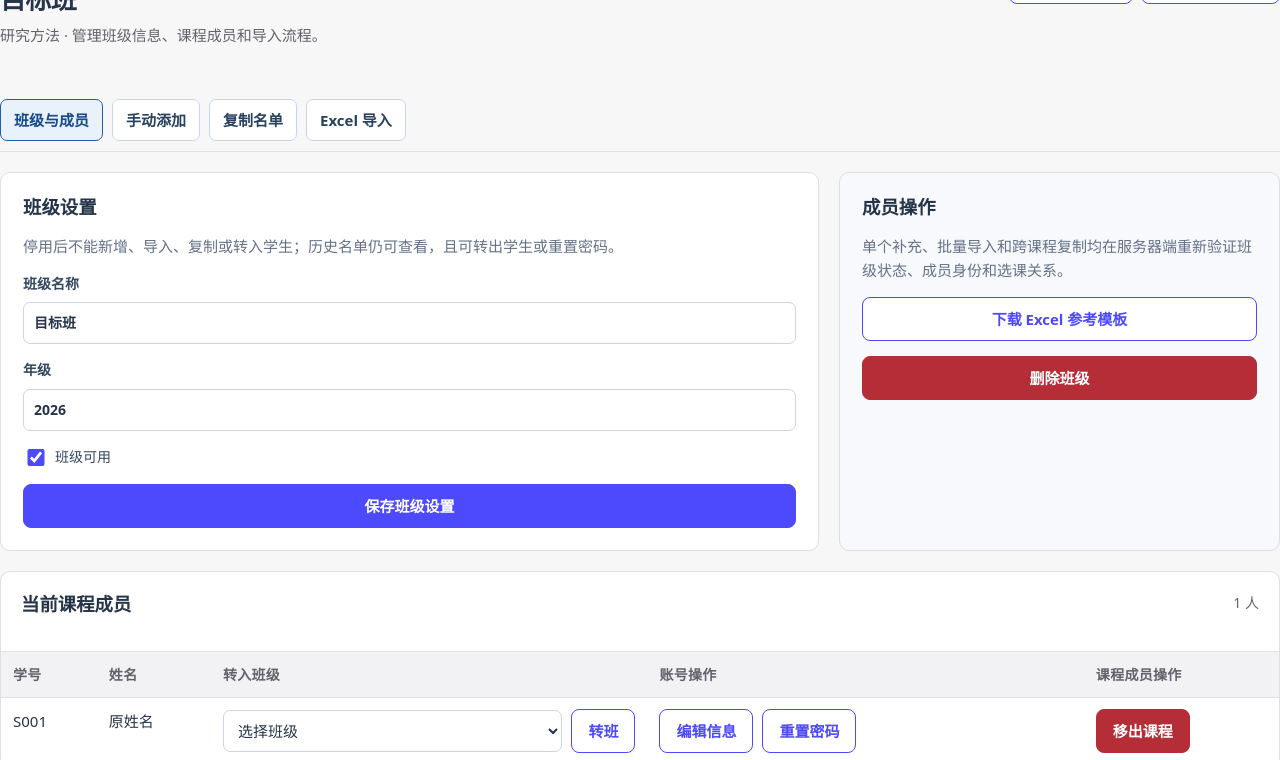
TeacherClassManagement › closes a stale identity editor and refreshes authoritative management state
The image size is (1280, 760).
Click the button "编辑信息" at (706,731), box [659, 709, 753, 753]
(page scrolled)
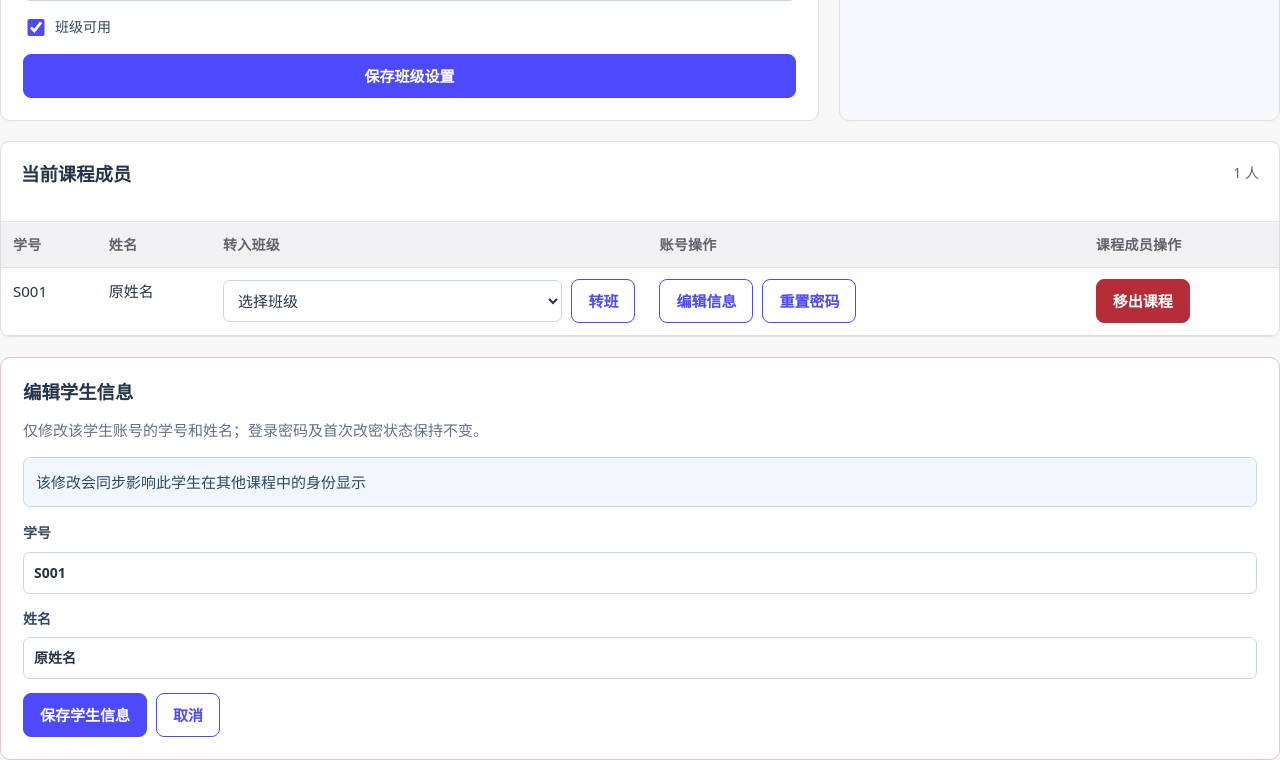
Submit the form "学号 姓名 保存学生信息 取消", box [23, 522, 1257, 737]
(page scrolled)
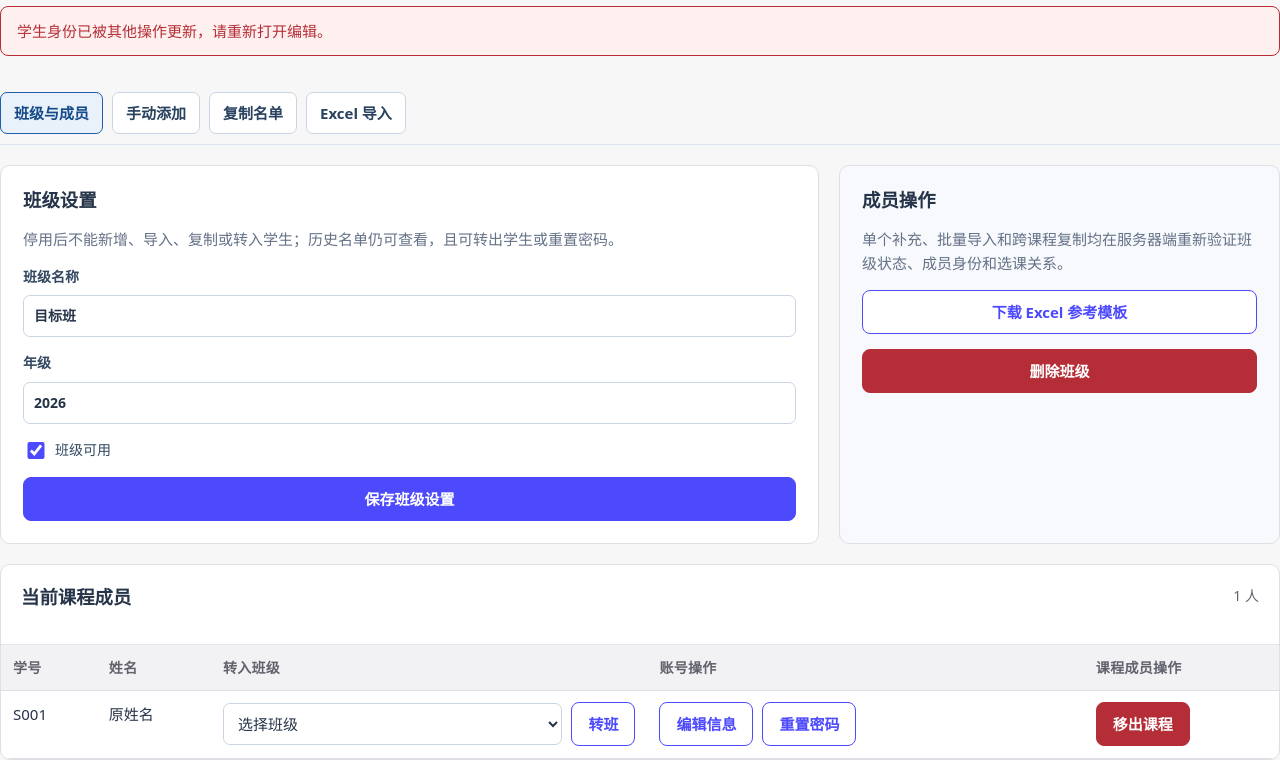
Now the text "学生身份已被其他操作更新，请重新打开编辑。" is shown, box [0, 6, 1279, 56]
